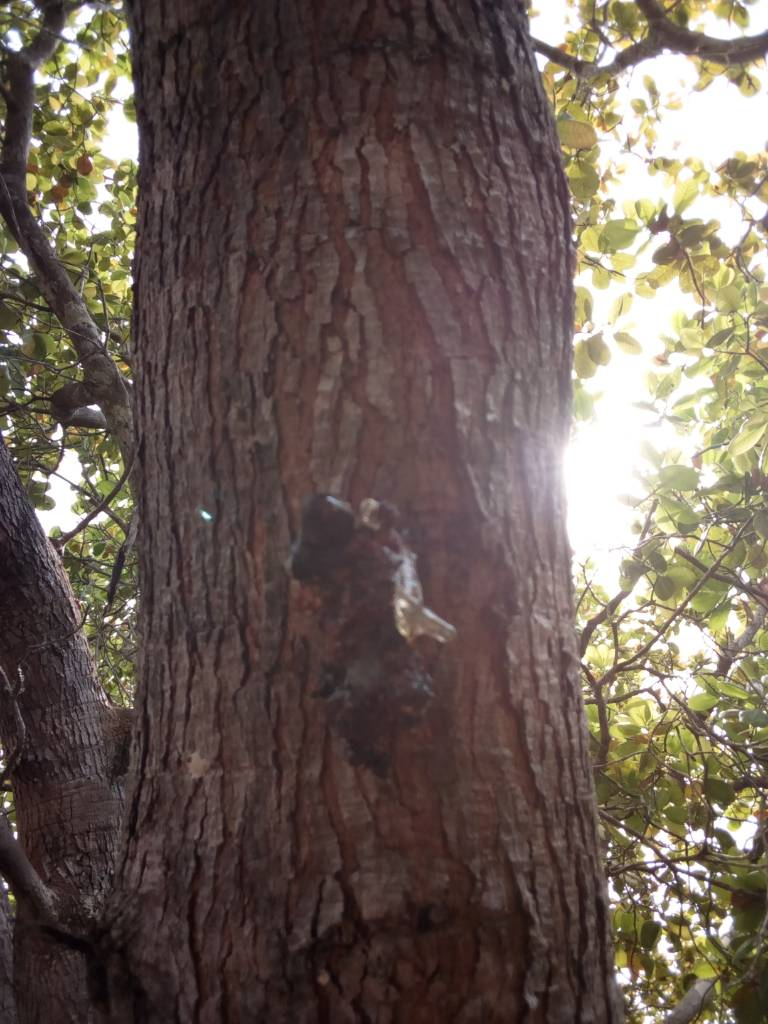Gommose: (300, 496, 450, 780)
